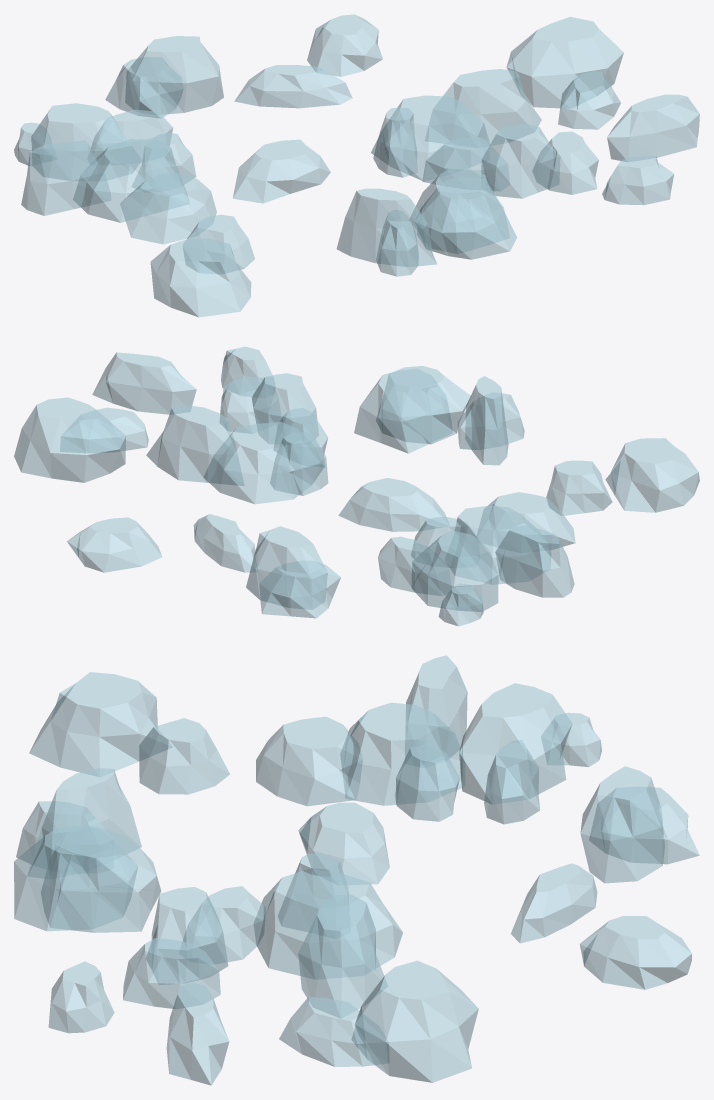
Rendered from alpine-and-arctic-biomes-brash-ice-7036ded3__21050.glb.
3 renders of one model, top to bottom at view 1: azimuth 30°, elevation 25°; view 2: azimuth 150°, elevation 25°; view 3: azimuth 270°, elevation 25°, orthographic. The views are drawn at different scales.
Visible parts, largest first — view 1: brash-ice; view 2: brash-ice; view 3: brash-ice.
Part boxes in pixels (x1=…): brash-ice: x1=14, y1=14, x2=699, y2=317; brash-ice: x1=14, y1=346, x2=699, y2=626; brash-ice: x1=14, y1=655, x2=699, y2=1085.
Bounding box in the file's own units: 4.2 × 0.4147 × 3.31.
